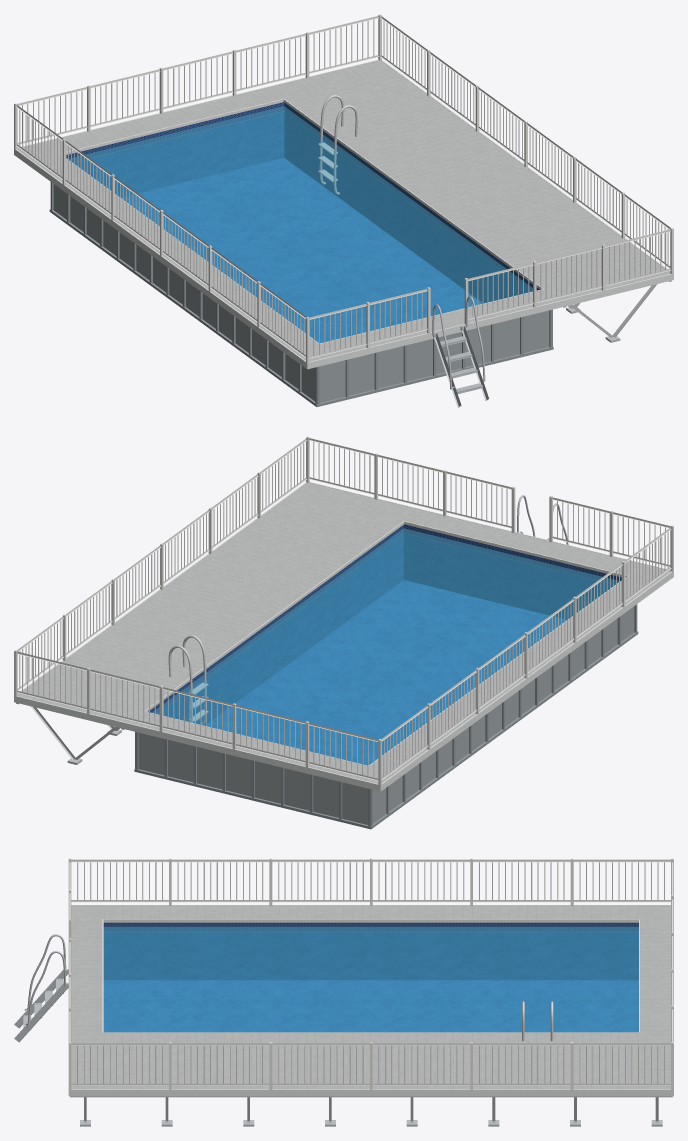
The model's file is kayak-pool-16x32-gray-side-ag-fence.4fa629a2d4.glb.
3 views of the same model, one above another, from view 1: azimuth 30°, elevation 25°; view 2: azimuth 150°, elevation 25°; view 3: azimuth 270°, elevation 25° (orthographic). The views are drawn at different scales.
Parts seen in each view (by area): view 1: water, deck, liner_floor, fence, liner_wall, wall, fascia, upright, ladder, steel, stud; view 2: water, deck, liner_floor, fence, liner_wall, wall, fascia, upright, steel, stud; view 3: water, deck, liner_wall, liner_floor, fence, fascia, stud, ladder.
Part boxes in pixels (bbox=[...]): water: bbox=[69, 106, 532, 343]; deck: bbox=[17, 60, 670, 361]; liner_floor: bbox=[121, 158, 482, 343]; fence: bbox=[14, 14, 673, 362]; liner_wall: bbox=[66, 102, 539, 303]; wall: bbox=[53, 184, 549, 402]; fascia: bbox=[14, 59, 673, 369]; upright: bbox=[49, 182, 553, 406]; ladder: bbox=[432, 296, 488, 407]; steel: bbox=[318, 95, 357, 194]; stud: bbox=[563, 280, 671, 342]; water: bbox=[152, 528, 618, 765]; deck: bbox=[17, 482, 670, 783]; liner_floor: bbox=[205, 580, 566, 765]; fence: bbox=[14, 436, 673, 785]; liner_wall: bbox=[148, 524, 621, 725]; wall: bbox=[138, 606, 634, 824]; fascia: bbox=[14, 482, 673, 791]; upright: bbox=[134, 604, 638, 829]; steel: bbox=[168, 635, 208, 724]; stud: bbox=[16, 703, 124, 764]; water: bbox=[103, 927, 638, 1032]; deck: bbox=[71, 905, 670, 1088]; liner_wall: bbox=[103, 922, 638, 980]; liner_floor: bbox=[103, 980, 638, 1032]; fence: bbox=[68, 858, 673, 1089]; fascia: bbox=[68, 905, 673, 1096]; stud: bbox=[70, 1096, 672, 1126]; ladder: bbox=[14, 934, 68, 1042].
Bounding box in the file's own units: 7.93 × 2.15 × 11.96.
11 materials, 3 textured.
